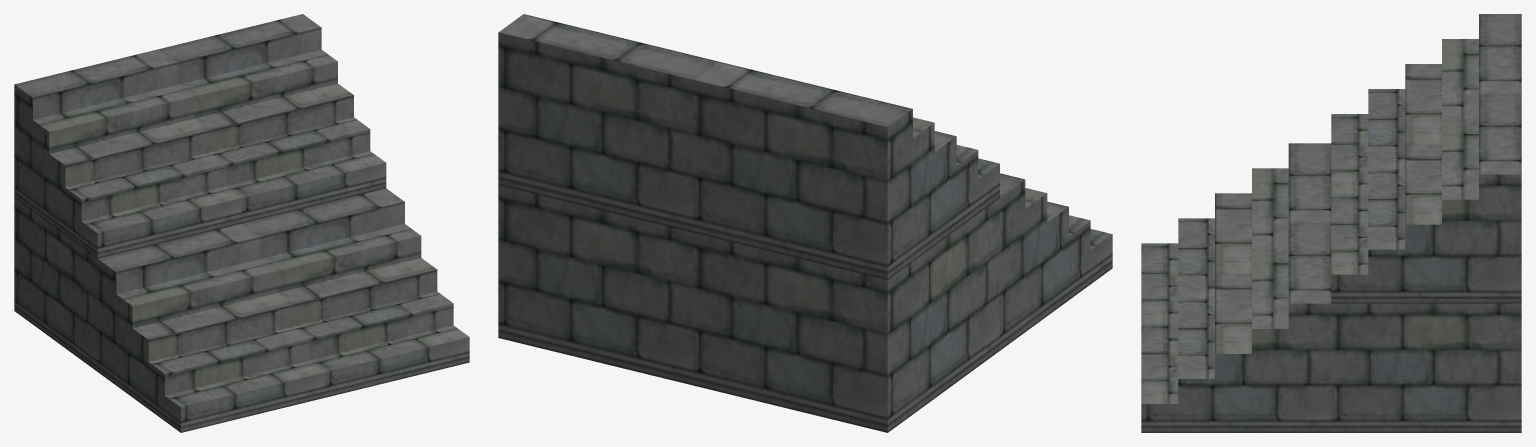
File: sd_stairs_large_01.glb
3 views of the same model, side by side, from view 1: azimuth 30°, elevation 25°; view 2: azimuth 150°, elevation 25°; view 3: azimuth 270°, elevation 25° (orthographic). The views are drawn at different scales.
Parts seen in each view (by area): view 1: stairs_large_01; view 2: stairs_large_01; view 3: stairs_large_01.
Boxes of the visible parts, x1,y1,x2,y2 form: stairs_large_01: [14, 14, 469, 432]; stairs_large_01: [498, 14, 1112, 432]; stairs_large_01: [1141, 14, 1521, 432].
Bounding box in the file's own units: 4 × 3 × 4.
1 material, 1 textured.
